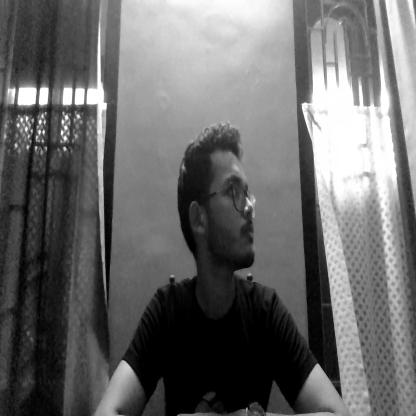Distracted: (168, 111, 266, 300)
